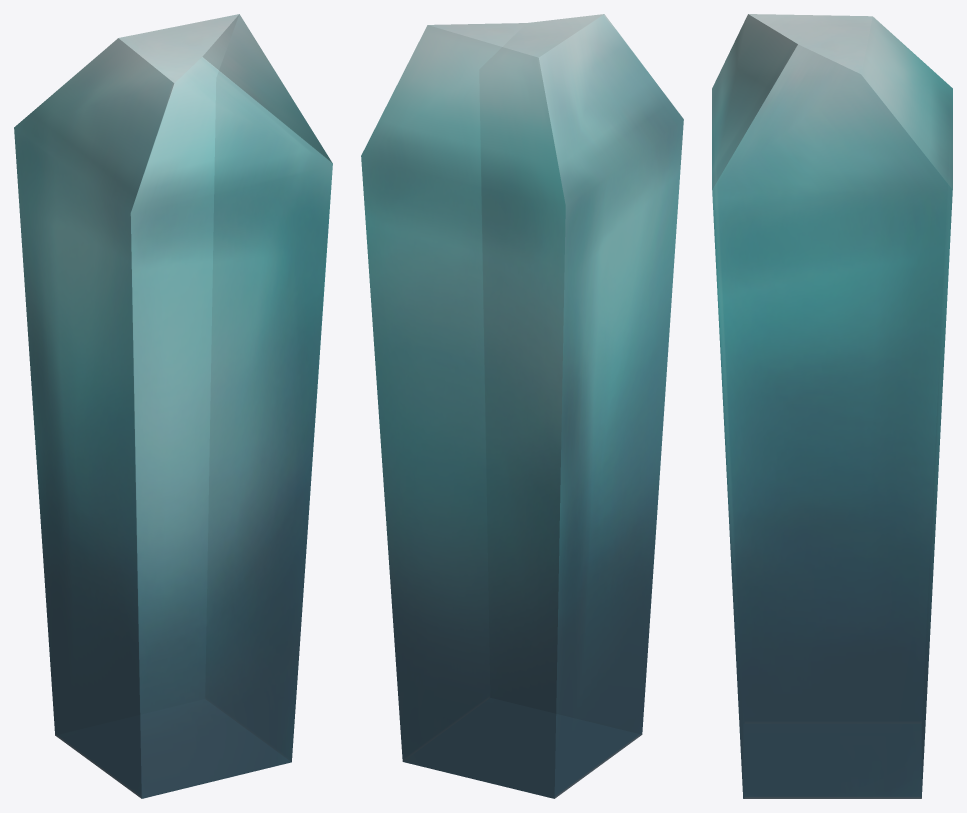
File: Crystal_ver.3.fbx
The picture shows the model from 3 angles, left to right: view 1: azimuth 30°, elevation 25°; view 2: azimuth 150°, elevation 25°; view 3: azimuth 270°, elevation 25°; orthographic projection. The views are drawn at different scales.
Visible parts, largest first — view 1: Crystal; view 2: Crystal; view 3: Crystal.
Boxes of the visible parts, x1,y1,x2,y2 form: Crystal: [14, 14, 332, 798]; Crystal: [361, 14, 683, 798]; Crystal: [712, 14, 952, 798].
Bounding box in the file's own units: 15 × 50 × 15.
